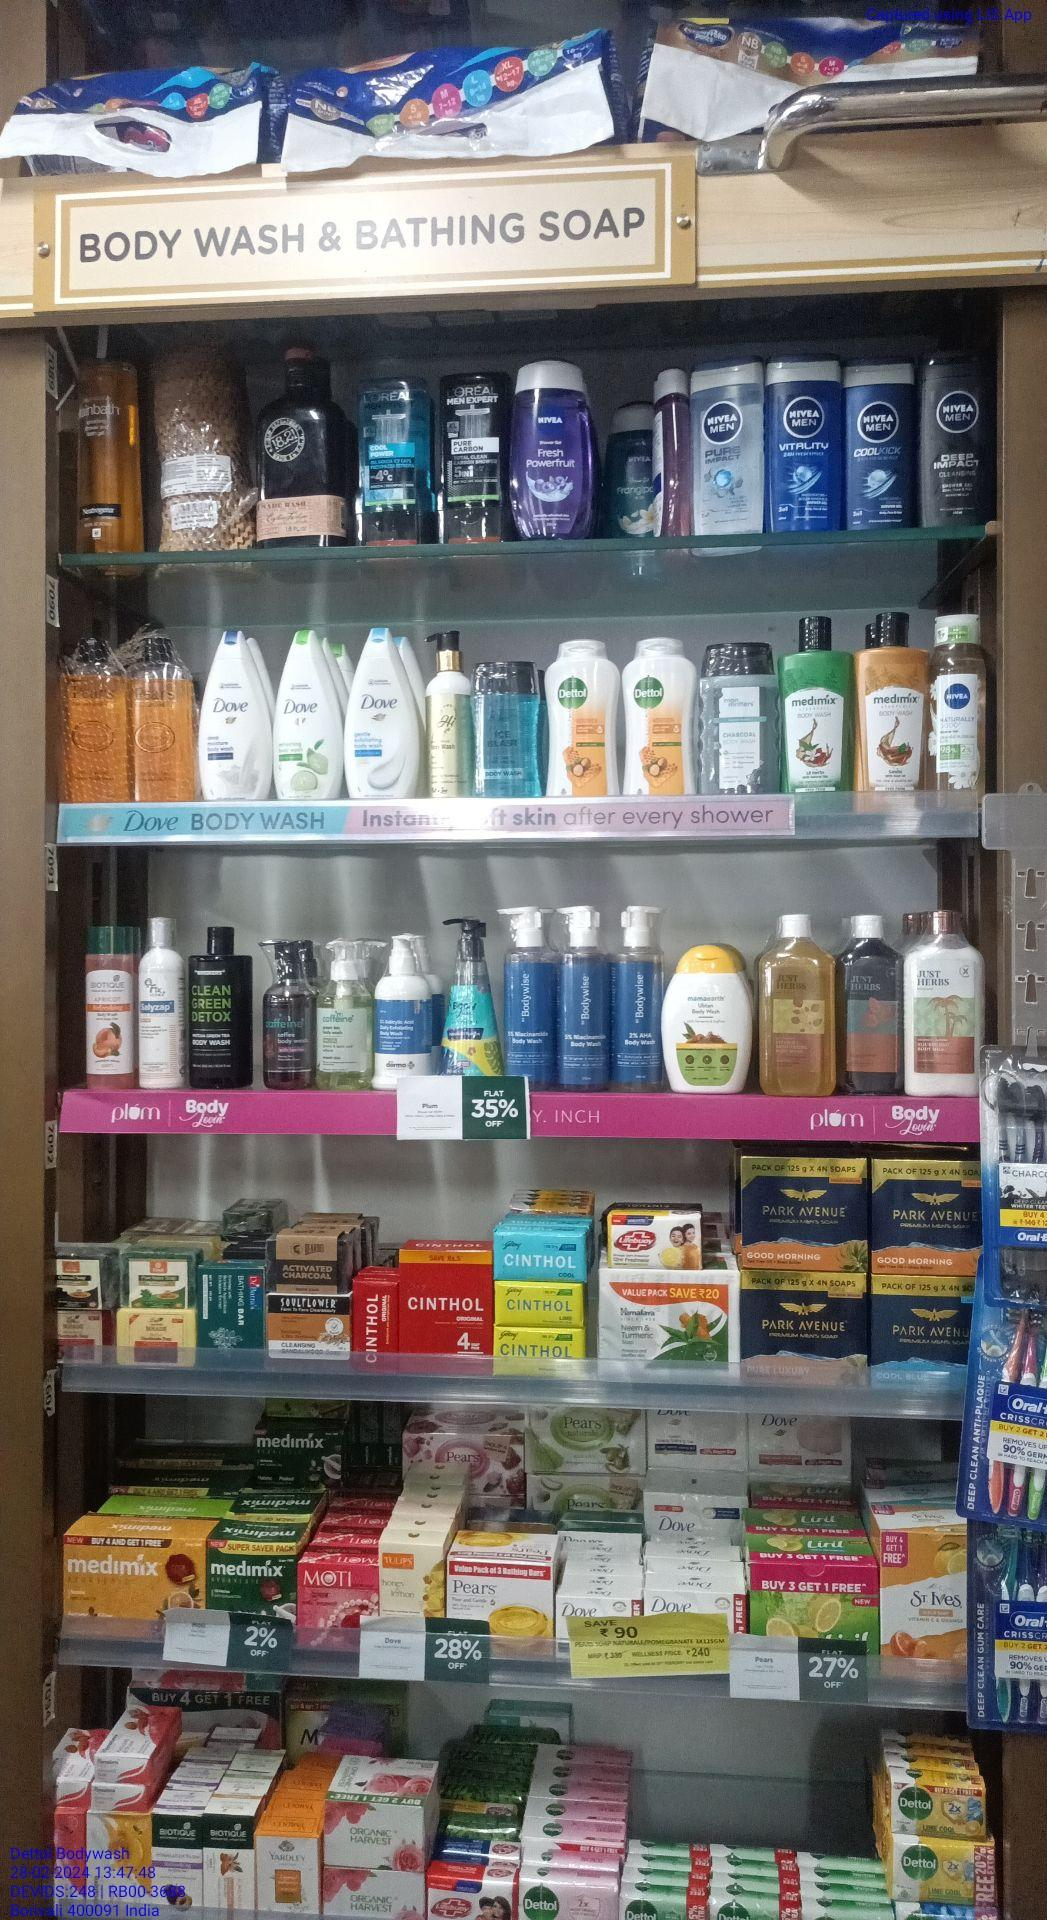Dettol_Nourish_Body_Wash_250ML: (621, 637, 692, 801), (547, 638, 615, 799)
Dove_Deep_Moisture_Body_Wash_250ML: (200, 628, 267, 805)
Dove_Gentle_Exfoliating_Body_Wash_250ML: (346, 628, 414, 799)
Dove_Refreshing_Body_Wash_250ML: (277, 629, 340, 803)
Nivea_Shower_Gel_Fresh_Powerfruit_250ML: (511, 355, 592, 543)
